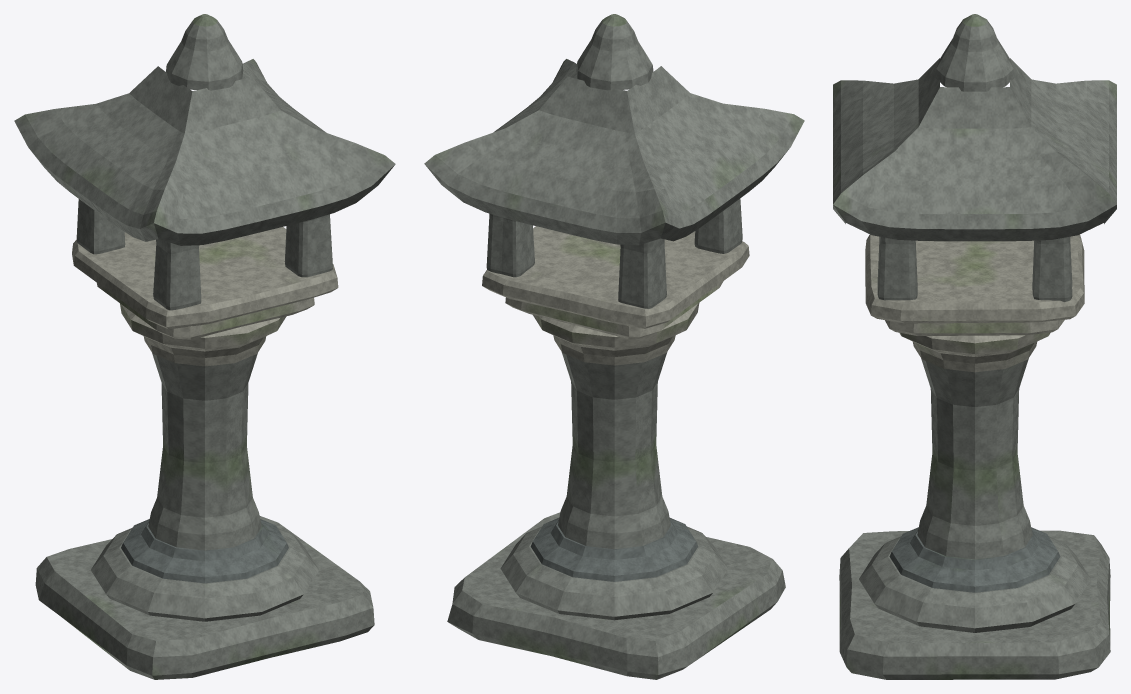
The model's file is stone-lantern.glb.
The picture shows the model from 3 angles, left to right: view 1: azimuth 30°, elevation 25°; view 2: azimuth 150°, elevation 25°; view 3: azimuth 270°, elevation 25°; orthographic projection.
Visible parts, largest first — view 1: Chipped firebox corner posts and swept stone roof, Weathered sotoba plinth, fluted column and lotus tray; view 2: Chipped firebox corner posts and swept stone roof, Weathered sotoba plinth, fluted column and lotus tray; view 3: Chipped firebox corner posts and swept stone roof, Weathered sotoba plinth, fluted column and lotus tray.
Part boxes in pixels (x1,y1,x2,y2): Chipped firebox corner posts and swept stone roof: [14, 14, 395, 339]; Weathered sotoba plinth, fluted column and lotus tray: [35, 303, 374, 679]; Chipped firebox corner posts and swept stone roof: [424, 14, 804, 338]; Weathered sotoba plinth, fluted column and lotus tray: [447, 303, 785, 679]; Chipped firebox corner posts and swept stone roof: [833, 14, 1116, 335]; Weathered sotoba plinth, fluted column and lotus tray: [839, 332, 1110, 679].
Bounding box in the file's own units: 0.88 × 2.08 × 0.88.
Materials: 1 (1 with a texture image).
